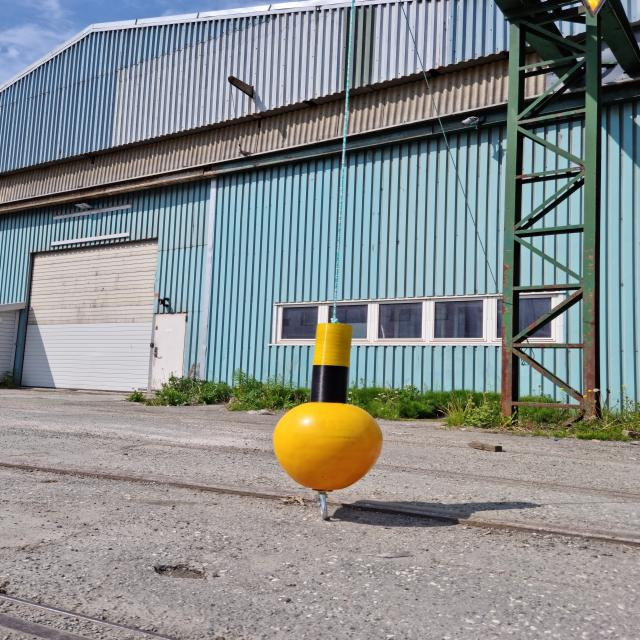west: (272, 323, 383, 490)
